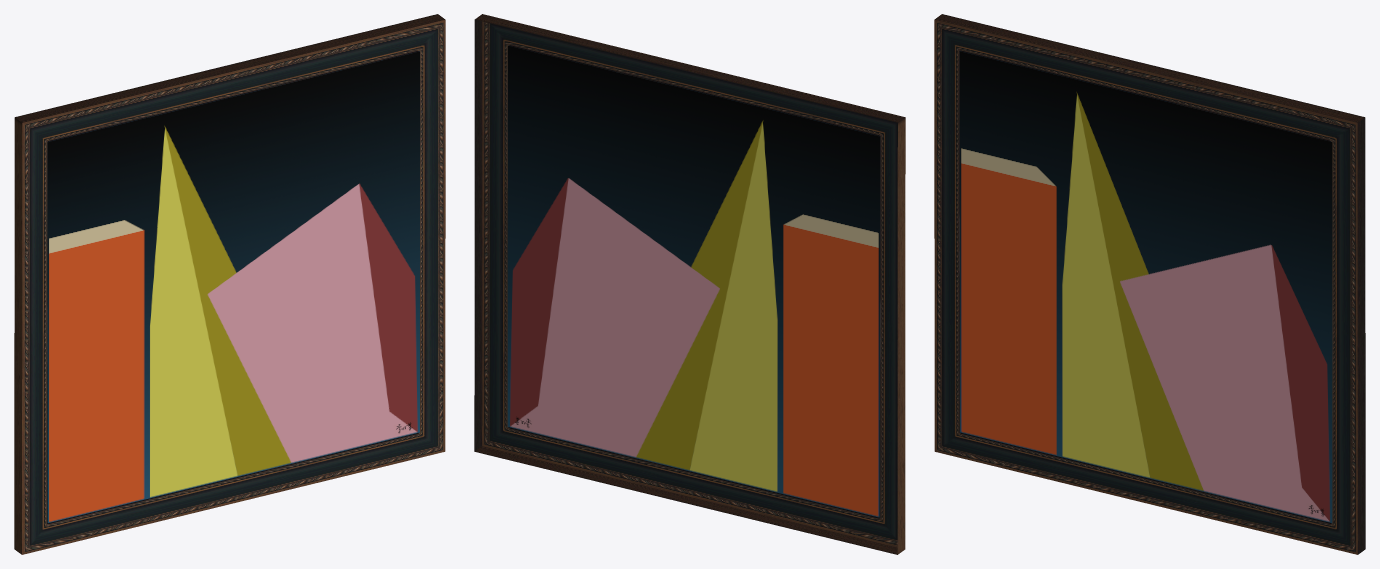
The model's file is Frame_aq.fbx.
3 views of the same model, side by side, from view 1: azimuth 30°, elevation 25°; view 2: azimuth 150°, elevation 25°; view 3: azimuth 330°, elevation 25° (orthographic).
Visible parts, largest first — view 1: Frame_aq; view 2: Frame_aq; view 3: Frame_aq.
Part boxes in pixels (x1=…): Frame_aq: x1=14, y1=14, x2=445, y2=554; Frame_aq: x1=474, y1=14, x2=905, y2=554; Frame_aq: x1=934, y1=14, x2=1365, y2=554.
Size of the model in its own units: 254 by 248 by 8.22.
